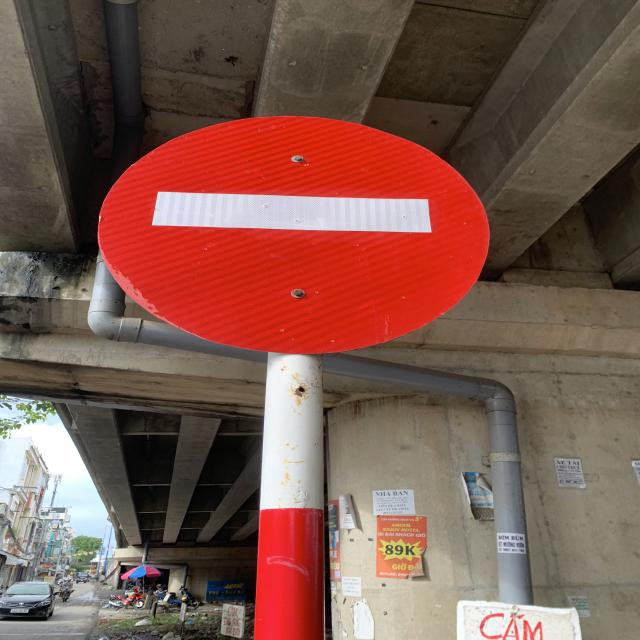Cam_Di_Nguoc_Chieu: (90, 108, 494, 364)
